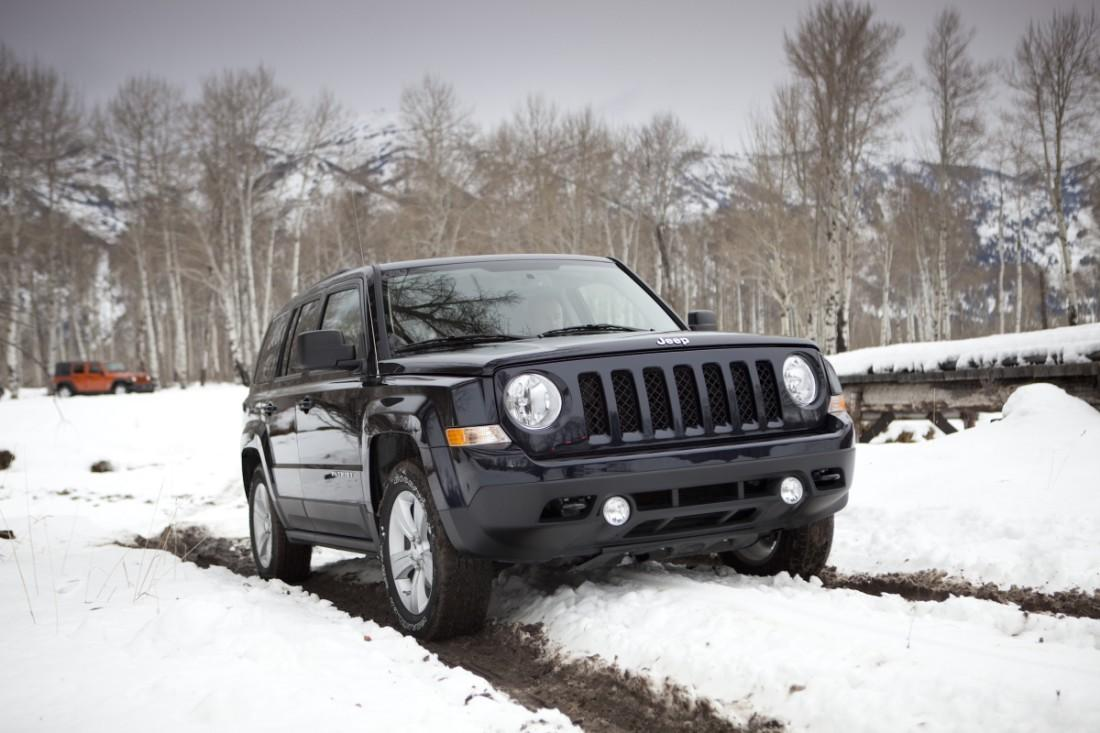jeep: (645, 328, 704, 354)
